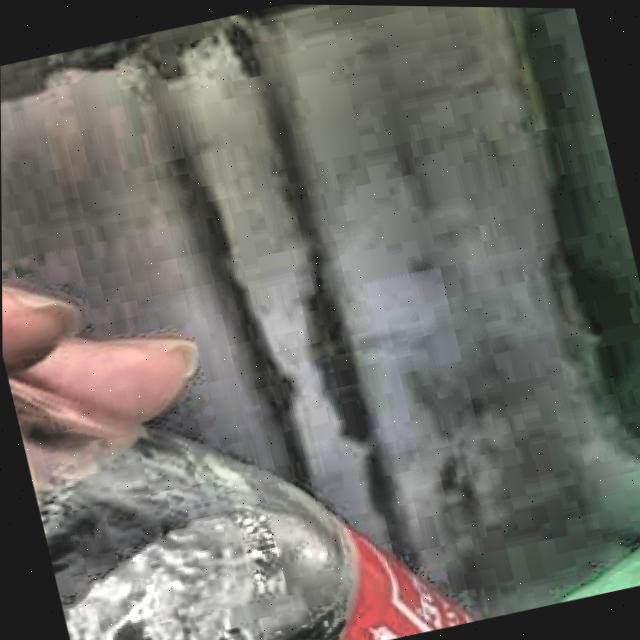glass: (8, 382, 473, 640)
